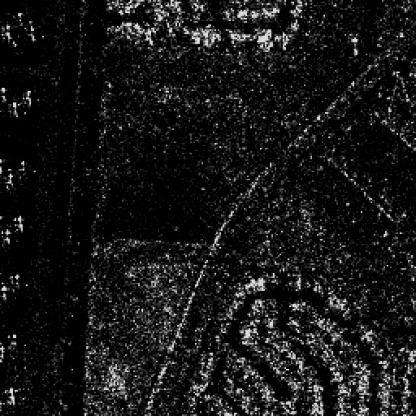airplane: (24, 20, 40, 42), (0, 23, 16, 42), (13, 10, 29, 29), (10, 213, 26, 232), (6, 268, 24, 284), (5, 330, 23, 344), (3, 172, 18, 187), (21, 86, 33, 104), (0, 229, 13, 245), (0, 286, 13, 301), (10, 99, 22, 115), (0, 84, 8, 100), (0, 213, 2, 229)
